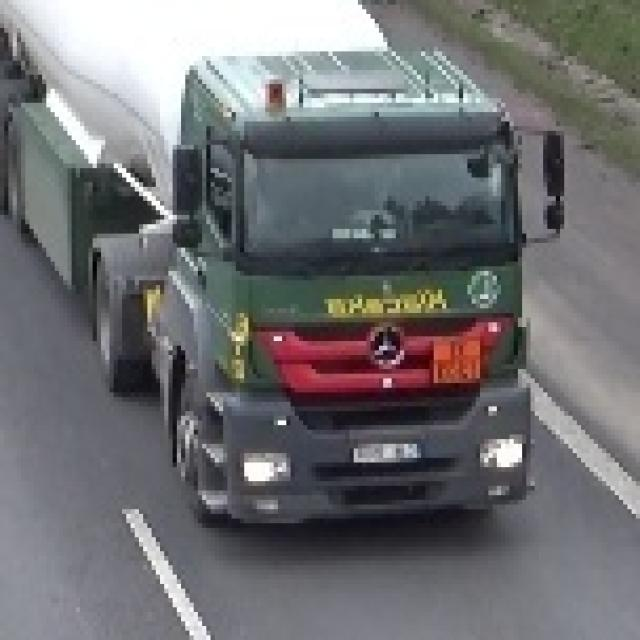TRUCK: (0, 0, 544, 526)
